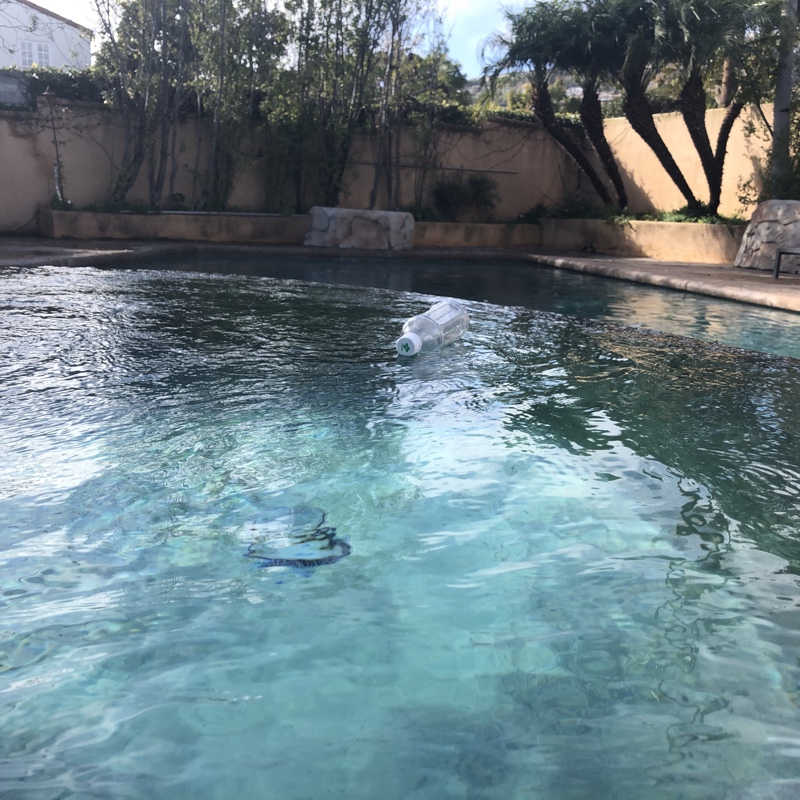Plastic Bottle: (394, 297, 474, 362)
